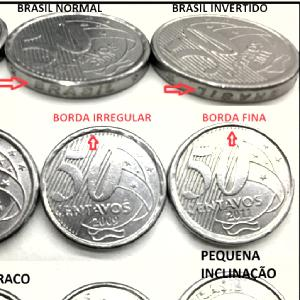50 cent: (39, 125, 167, 249), (166, 122, 294, 245), (8, 12, 148, 97), (156, 15, 291, 97)
